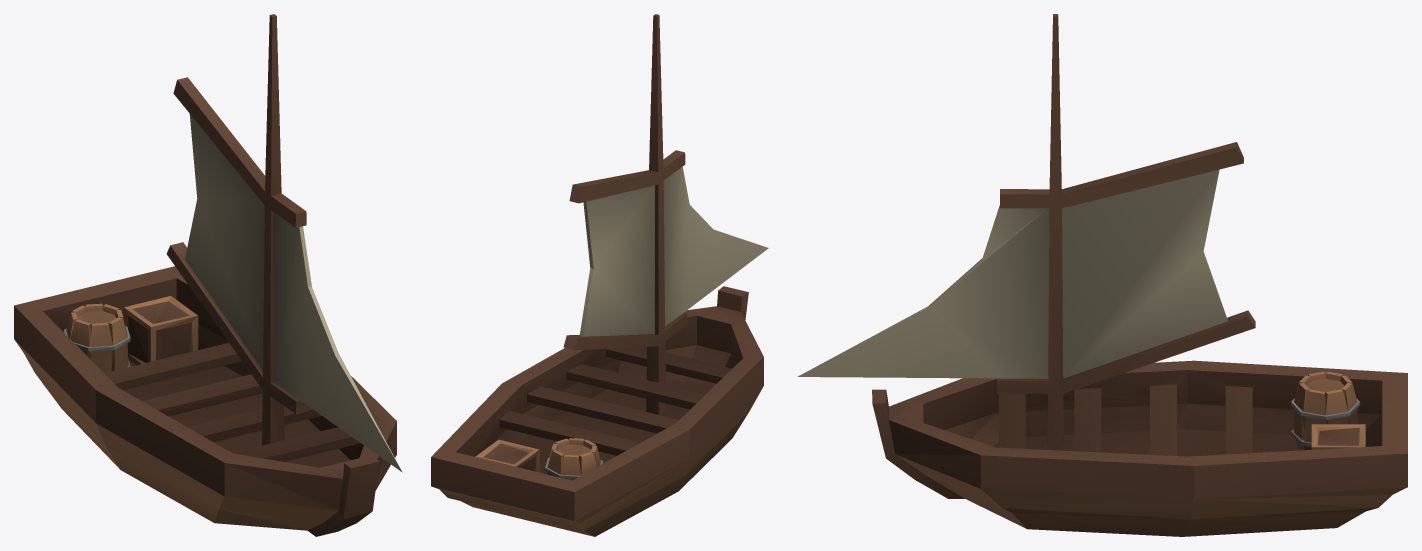
File: boat-sail.glb
3 views of the same model, side by side, from view 1: azimuth 30°, elevation 25°; view 2: azimuth 150°, elevation 25°; view 3: azimuth 270°, elevation 25° (orthographic). The views are drawn at different scales.
Parts seen in each view (by area): view 1: boat-sail; view 2: boat-sail; view 3: boat-sail.
Boxes of the visible parts, <box> form: boat-sail: <box>14,14,402,536</box>; boat-sail: <box>431,14,768,536</box>; boat-sail: <box>797,14,1407,536</box>.
Size of the model in its own units: 2.12 by 4.5 by 5.21.
